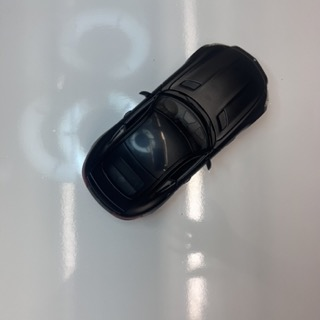car: (82, 43, 270, 222)
